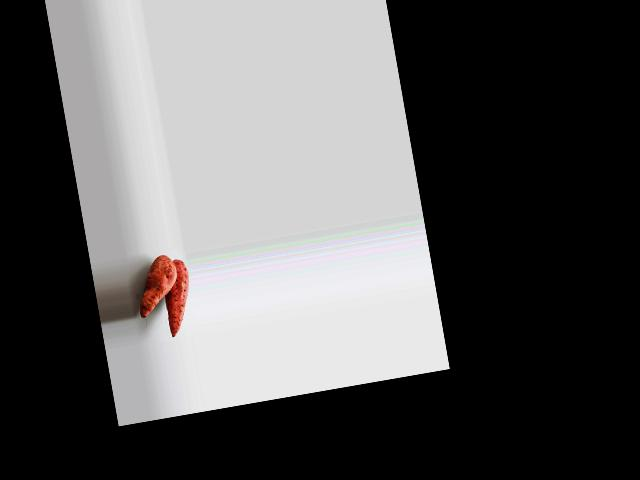sweet_potato: (158, 258, 196, 332)
